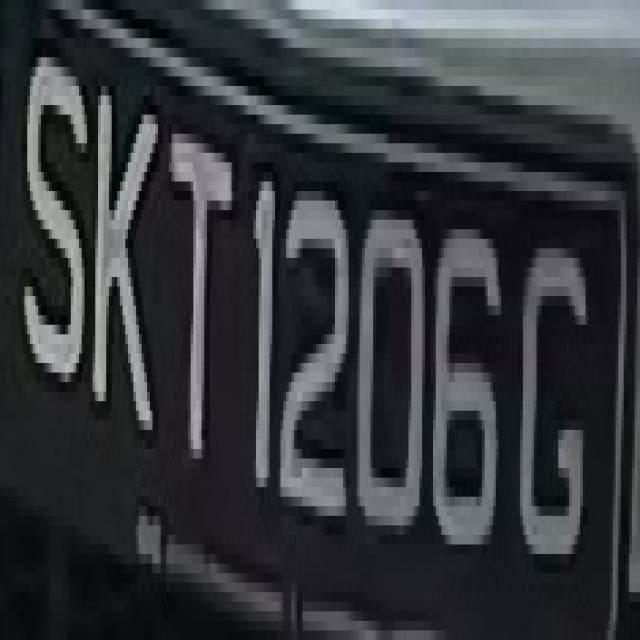0: (360, 172, 428, 583)
1: (250, 134, 280, 535)
2: (278, 143, 359, 573)
6: (430, 182, 501, 582)
G: (518, 210, 586, 573)
K: (87, 67, 158, 439)
S: (19, 48, 87, 401)
T: (161, 67, 234, 506)
